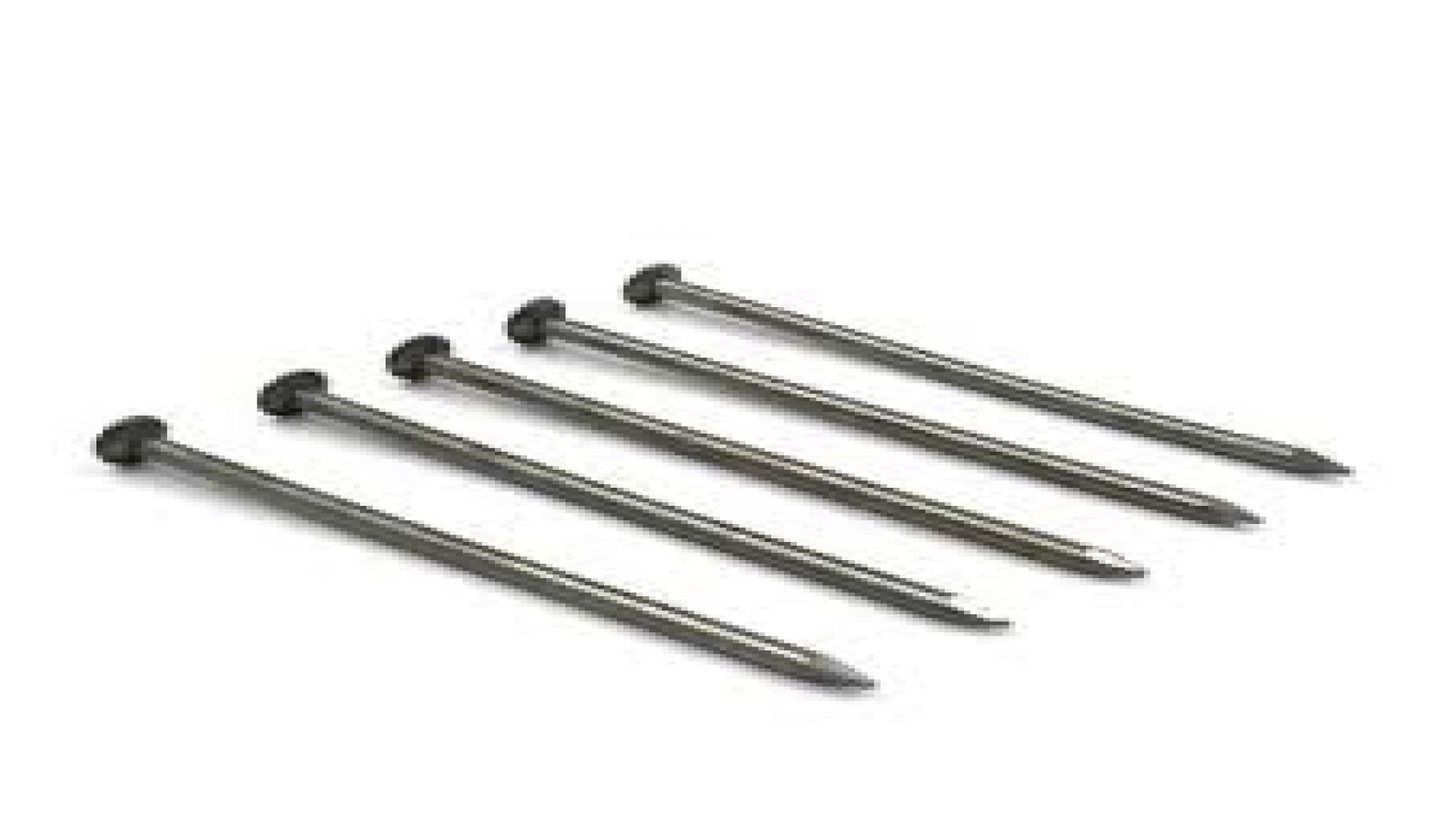nail: (16, 171, 1360, 719)
